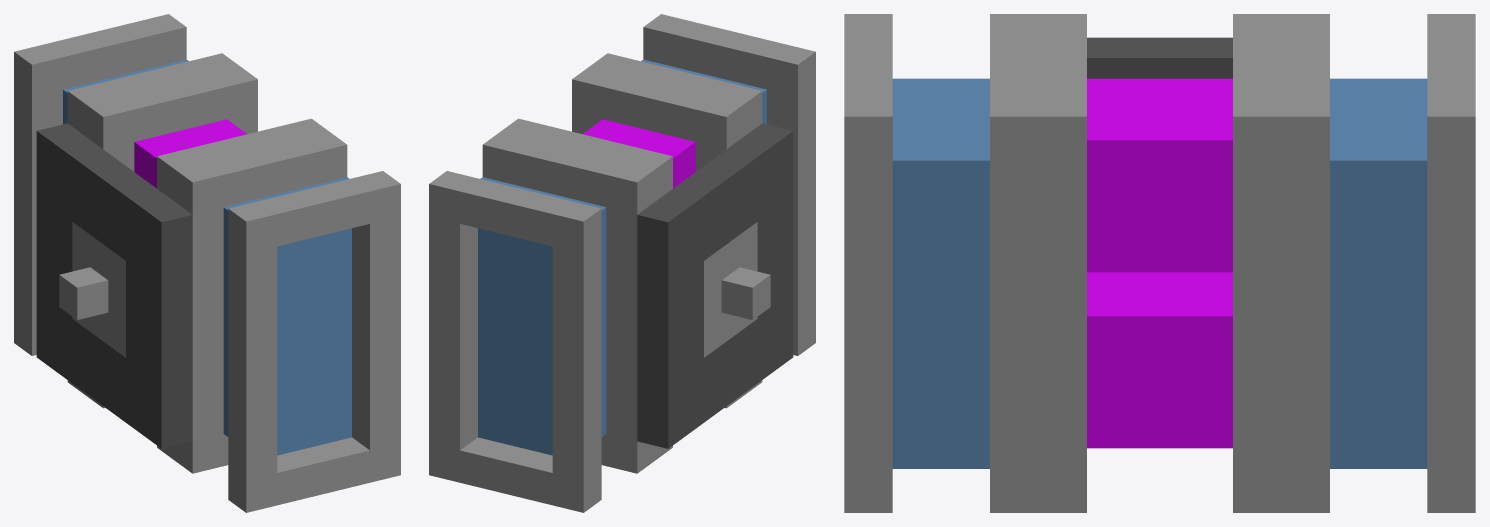
The model's file is WeaponMagazine#3.fbx.
The picture shows the model from 3 angles, left to right: view 1: azimuth 30°, elevation 25°; view 2: azimuth 150°, elevation 25°; view 3: azimuth 270°, elevation 25°; orthographic projection. The views are drawn at different scales.
Visible parts, largest first — view 1: WeaponMagazine#2; view 2: WeaponMagazine#2; view 3: WeaponMagazine#2.
Boxes of the visible parts, x1=… form: WeaponMagazine#2: x1=14, y1=14, x2=400, y2=512; WeaponMagazine#2: x1=429, y1=14, x2=815, y2=512; WeaponMagazine#2: x1=844, y1=14, x2=1475, y2=512.
Bounding box in the file's own units: 70 × 90 × 130.
1 material, 1 textured.
